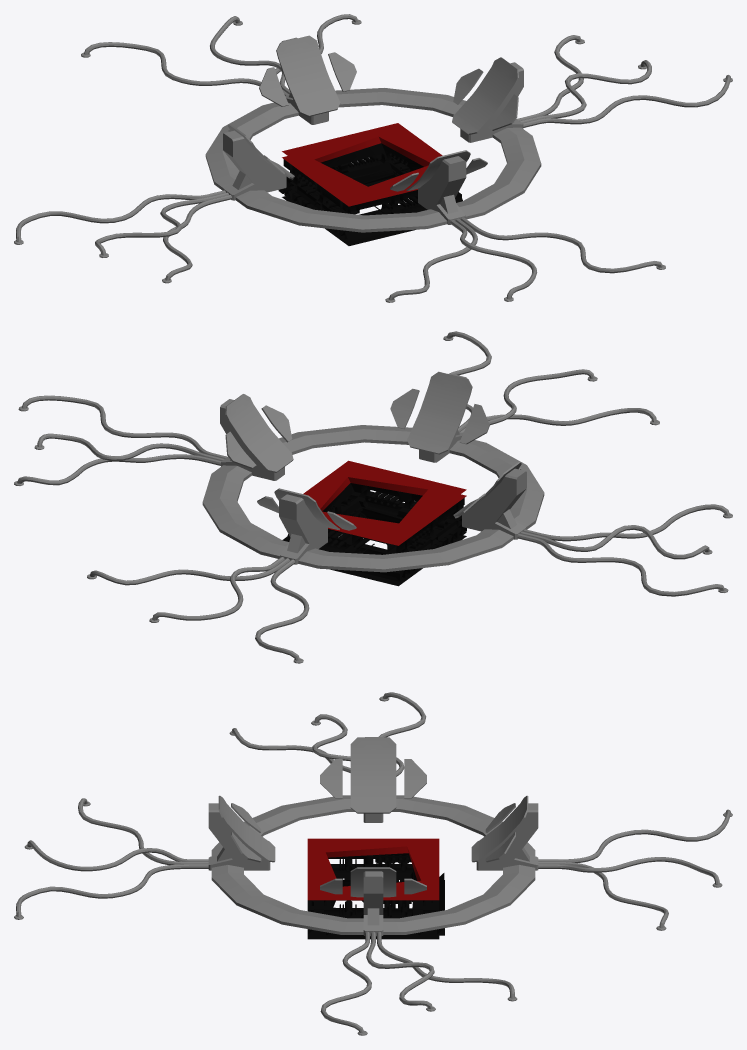
Rendered from SM_theHold.fbx.
3 renders of one model, top to bottom at view 1: azimuth 30°, elevation 25°; view 2: azimuth 150°, elevation 25°; view 3: azimuth 270°, elevation 25°, orthographic. The views are drawn at different scales.
Visible parts, largest first — view 1: SubMachine, floorss; view 2: SubMachine, floorss; view 3: SubMachine, floorss.
Boxes of the visible parts, x1=… form: SubMachine: x1=14, y1=14, x2=732, y2=302; floorss: x1=278, y1=123, x2=462, y2=245; SubMachine: x1=14, y1=331, x2=732, y2=663; floorss: x1=282, y1=460, x2=466, y2=586; SubMachine: x1=14, y1=692, x2=732, y2=1035; floorss: x1=307, y1=838, x2=444, y2=939.
Bounding box in the file's own units: 956 × 144 × 858.
